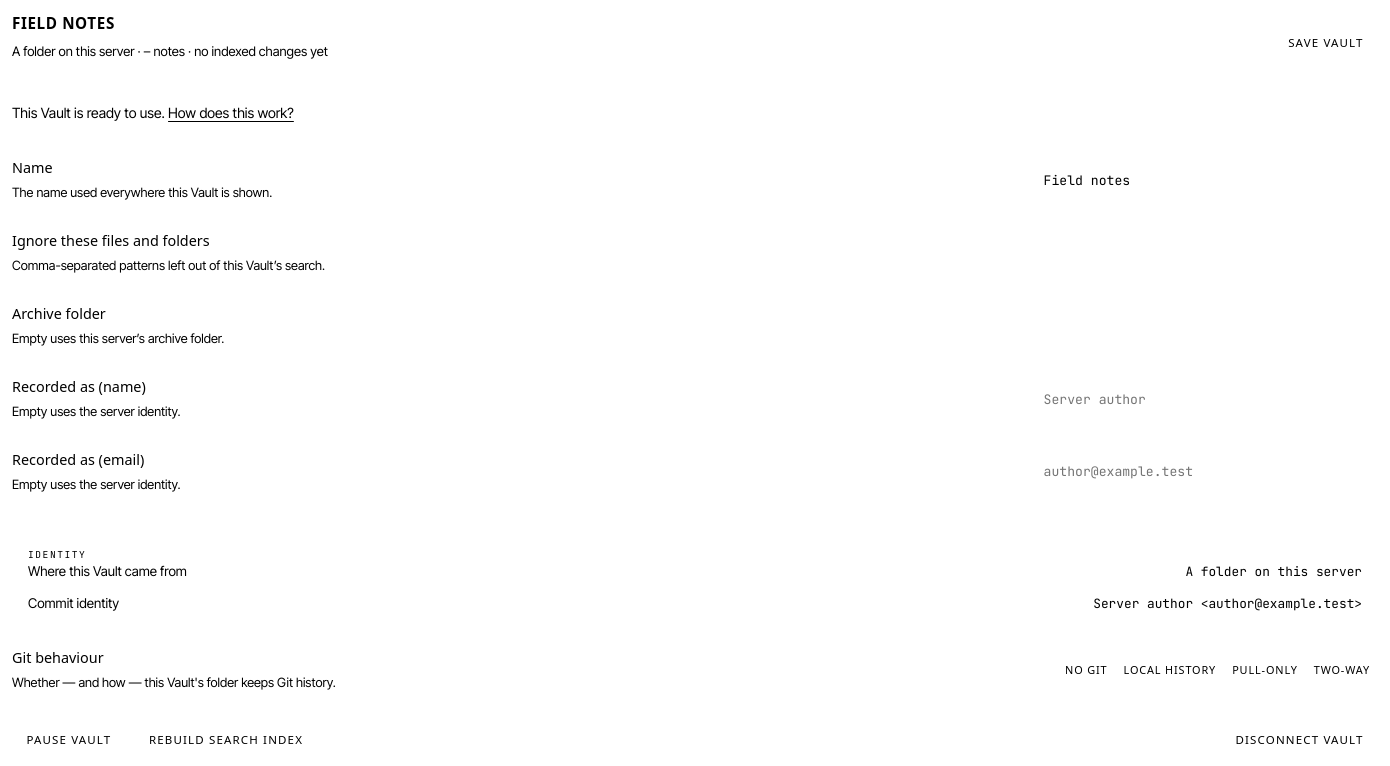
it: VaultSettingsDetail — a registry that moved elsewhere (#338) › pauses against the revision current at the click, not the one the page opened with
Check: the heading "Field notes" is shown, box [12,13,115,33]
Click the button "Pause Vault".
click(69, 740)  # box [12,725,126,755]
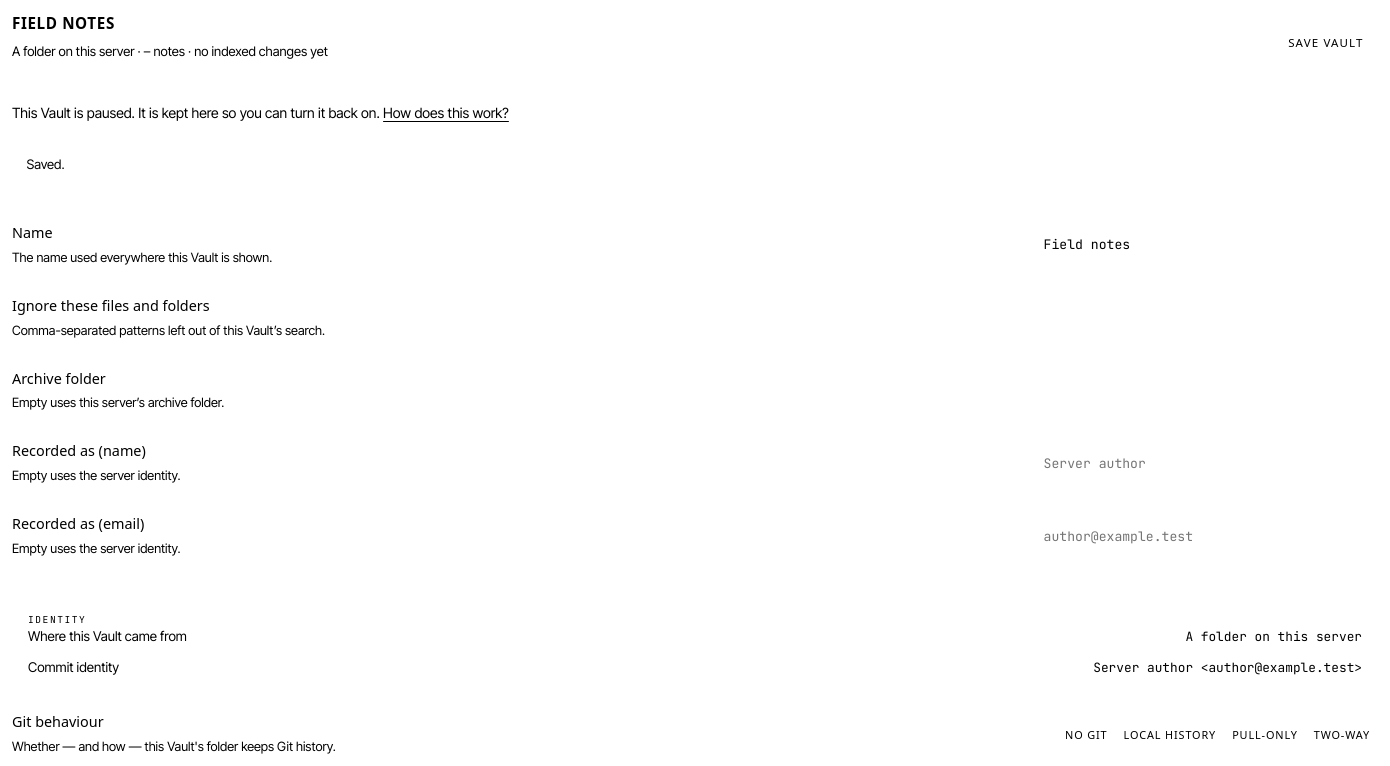
Check: the text "Saved." is shown, box [26,156,65,172]
